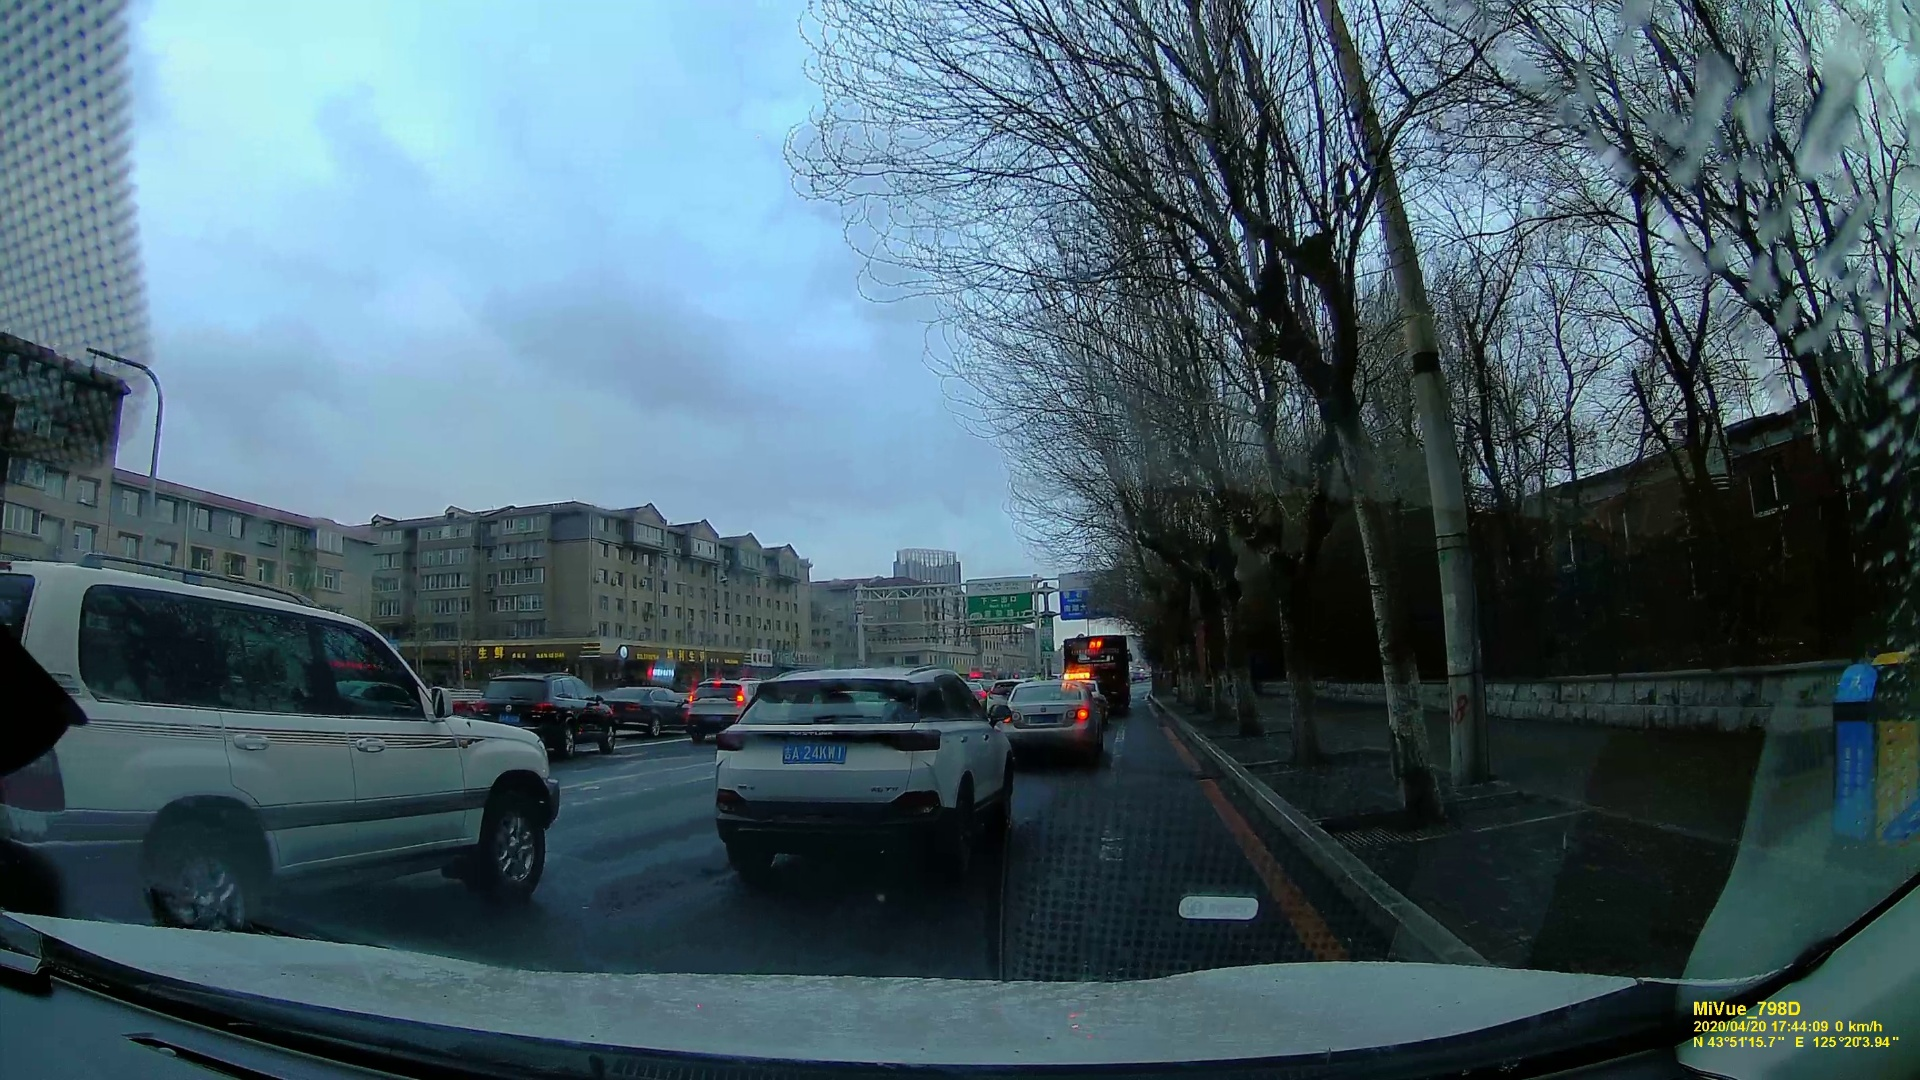traffic_sign: (964, 578, 1033, 626), (1059, 568, 1124, 618)
vehicle: (40, 568, 542, 935), (705, 659, 1025, 851), (487, 673, 616, 762), (994, 674, 1105, 748), (1055, 634, 1141, 703), (596, 680, 686, 736), (683, 680, 742, 736)
